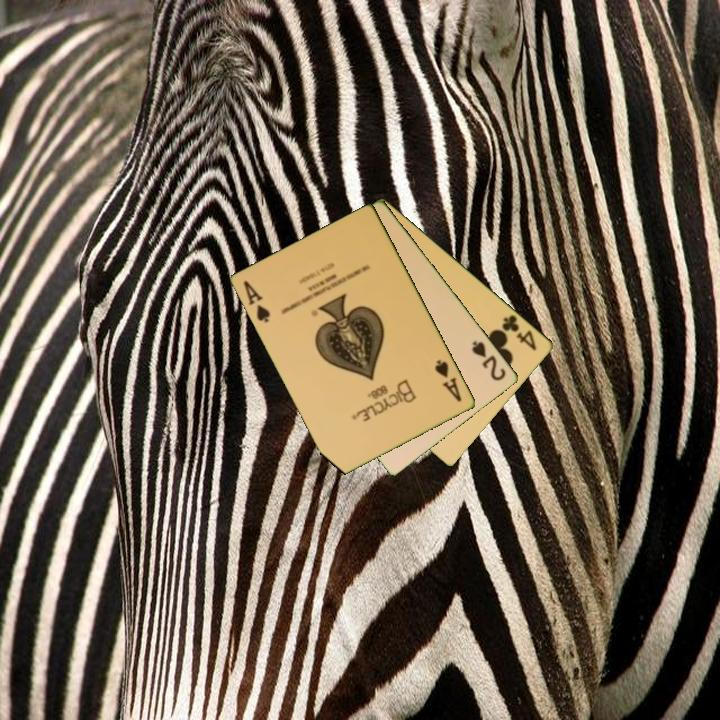2s: (469, 337, 509, 384)
4c: (499, 311, 540, 354)
As: (431, 356, 465, 405), (240, 277, 274, 326)
